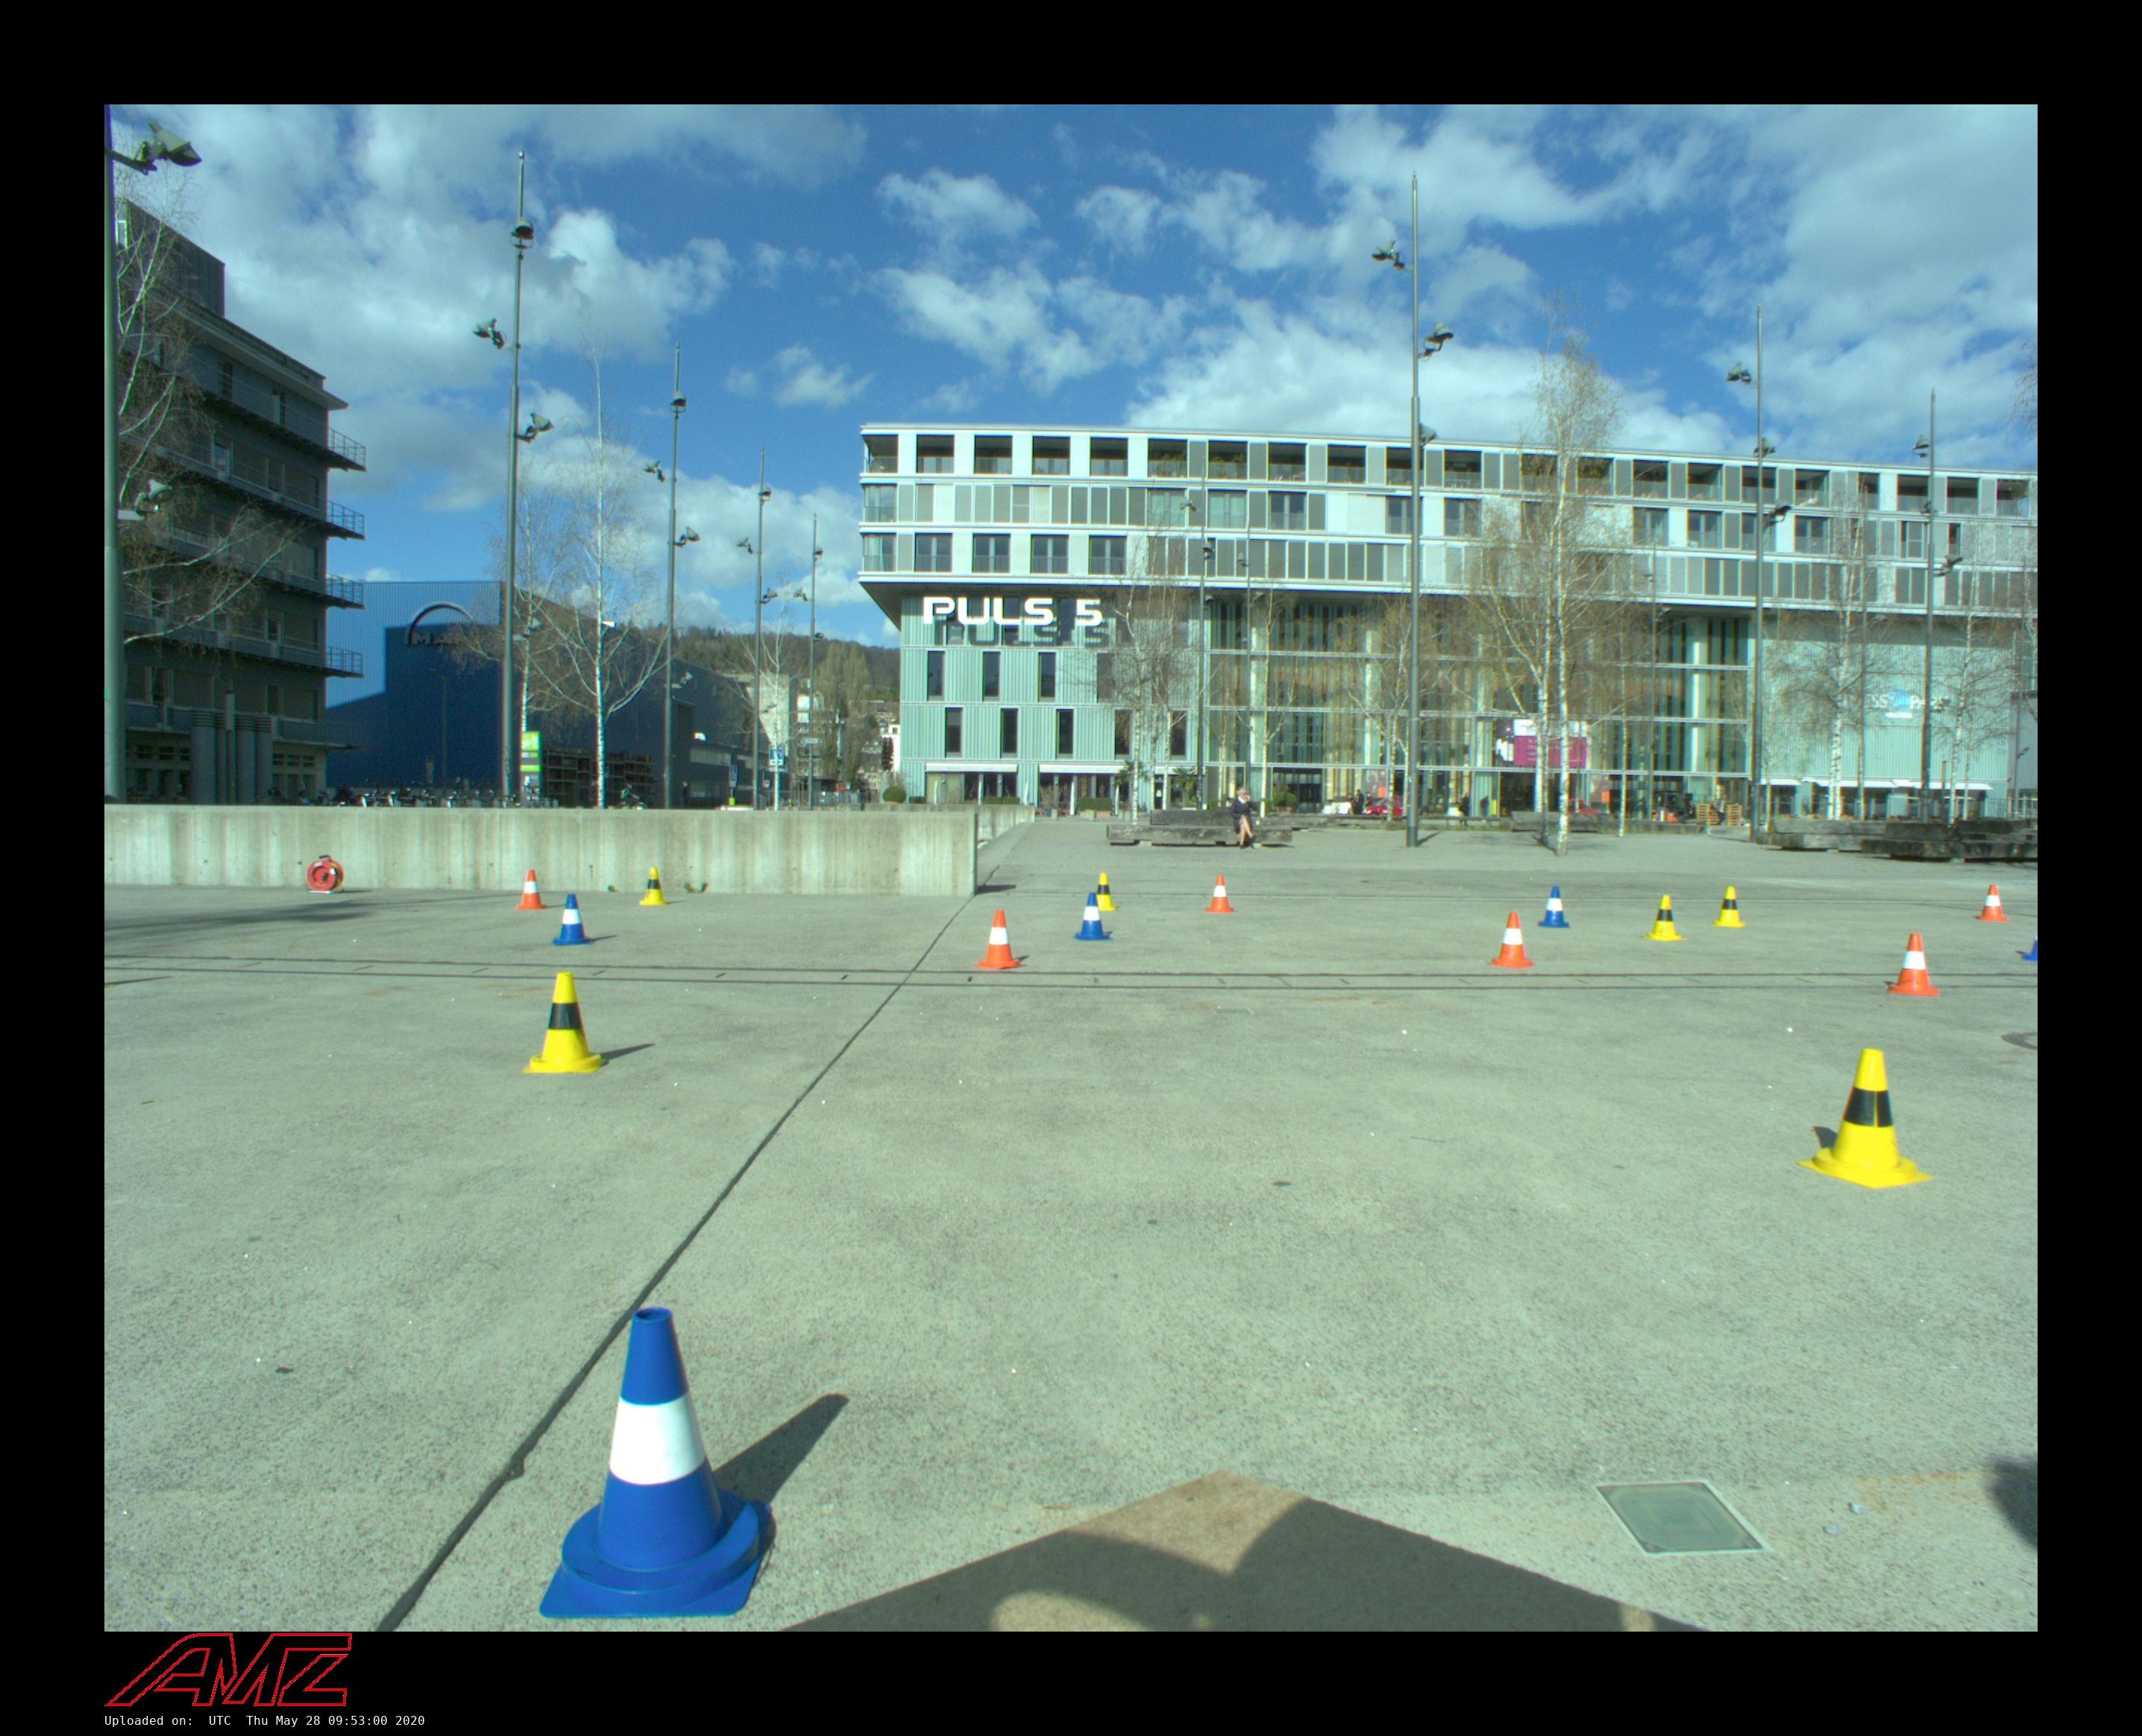blue_cone: (539, 1307, 774, 1619), (553, 893, 594, 946), (1072, 891, 1113, 941), (1538, 886, 1572, 928)
orange_cone: (973, 911, 1028, 969), (1887, 934, 1938, 996), (1488, 911, 1536, 969), (514, 870, 547, 911), (1975, 886, 2011, 921), (1205, 875, 1235, 914)
yellow_cone: (1802, 1047, 1935, 1189), (524, 973, 608, 1075), (1644, 895, 1688, 942), (1713, 887, 1745, 928), (640, 868, 668, 905), (1090, 873, 1118, 911)
